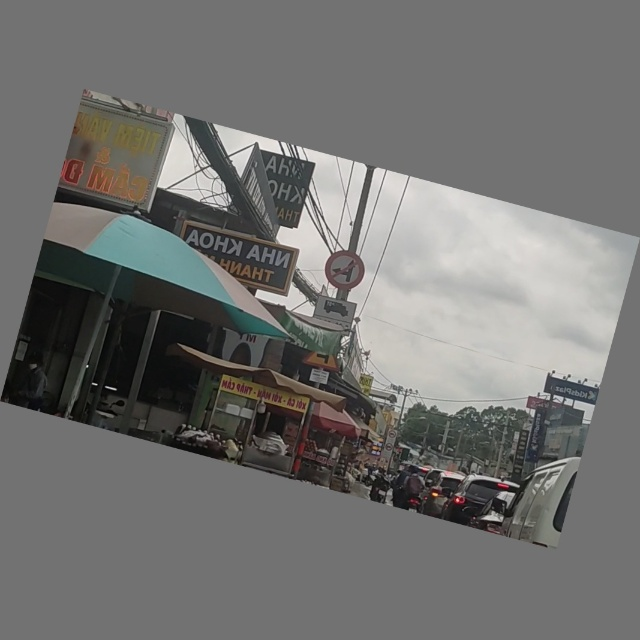P.139: (322, 248, 367, 292)
S.505a*Xe tai: (313, 294, 357, 330)
W.205b: (303, 351, 344, 373)
